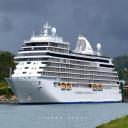cruises: (6, 22, 124, 107)
